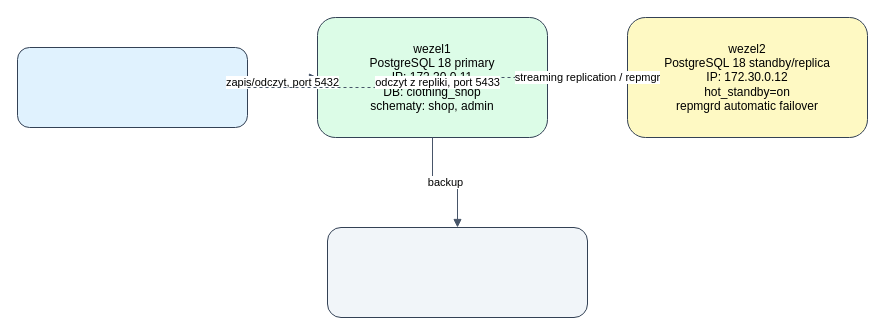
Image size: 885x335. Some labels were removed from this diagram. The centre of each missing label's shape, as x and y in pixels:
Administrator / aplikacja testowa psql / pgAdmin / docker exec: (132,87)
Backup na hoście lokalnym pg_dump / pg_restore clothing_shop_backup_*.dump: (457,272)
